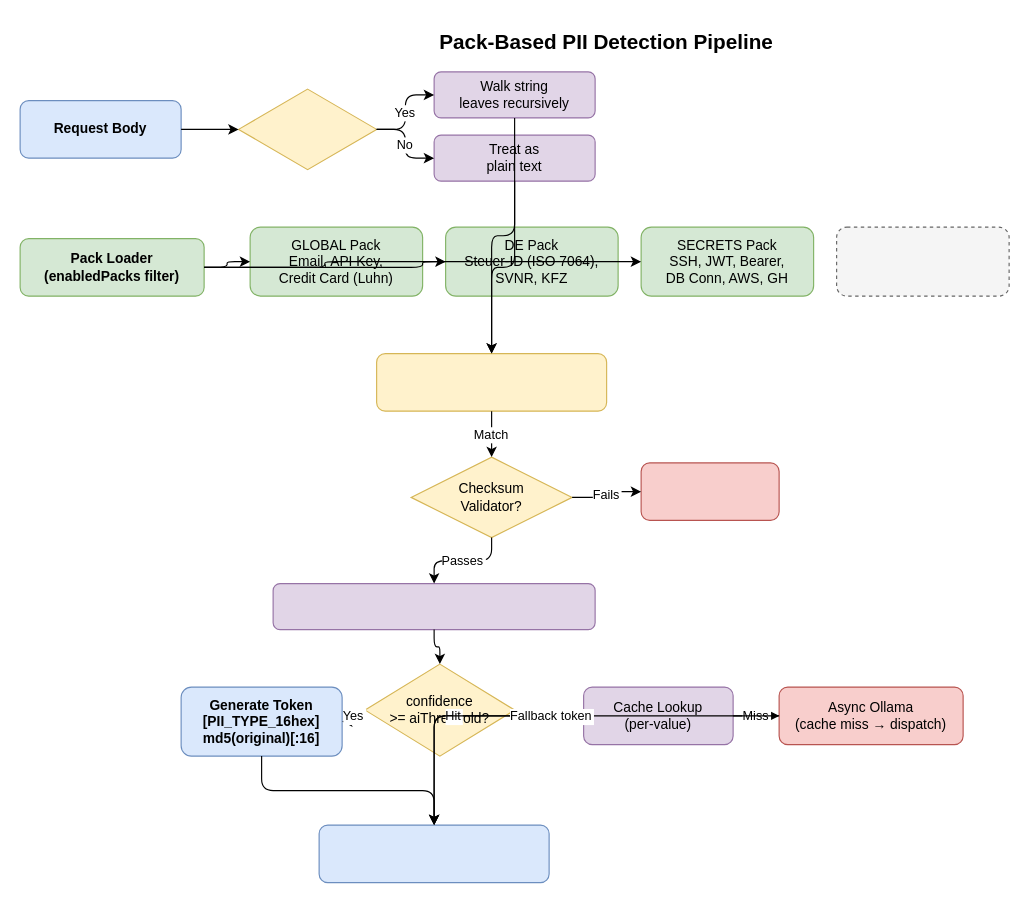
This 1029x903 diagram has some shape labels left out. Each missing label, with the centre of its shape:
"Anonymized Text + Session Token Map" goes at [433,853].
"Apply Positional Decay effective = base × (1 - (pos-1) × decay)" goes at [433,606].
"Regex Pass (per-pattern confidence)" goes at [491,381].
"Skip (false positive)" goes at [709,491].
"US Pack (disabled by default) Phone, SSN, ZIP, IP" goes at [922,261].
"Valid JSON?" goes at [307,129].
